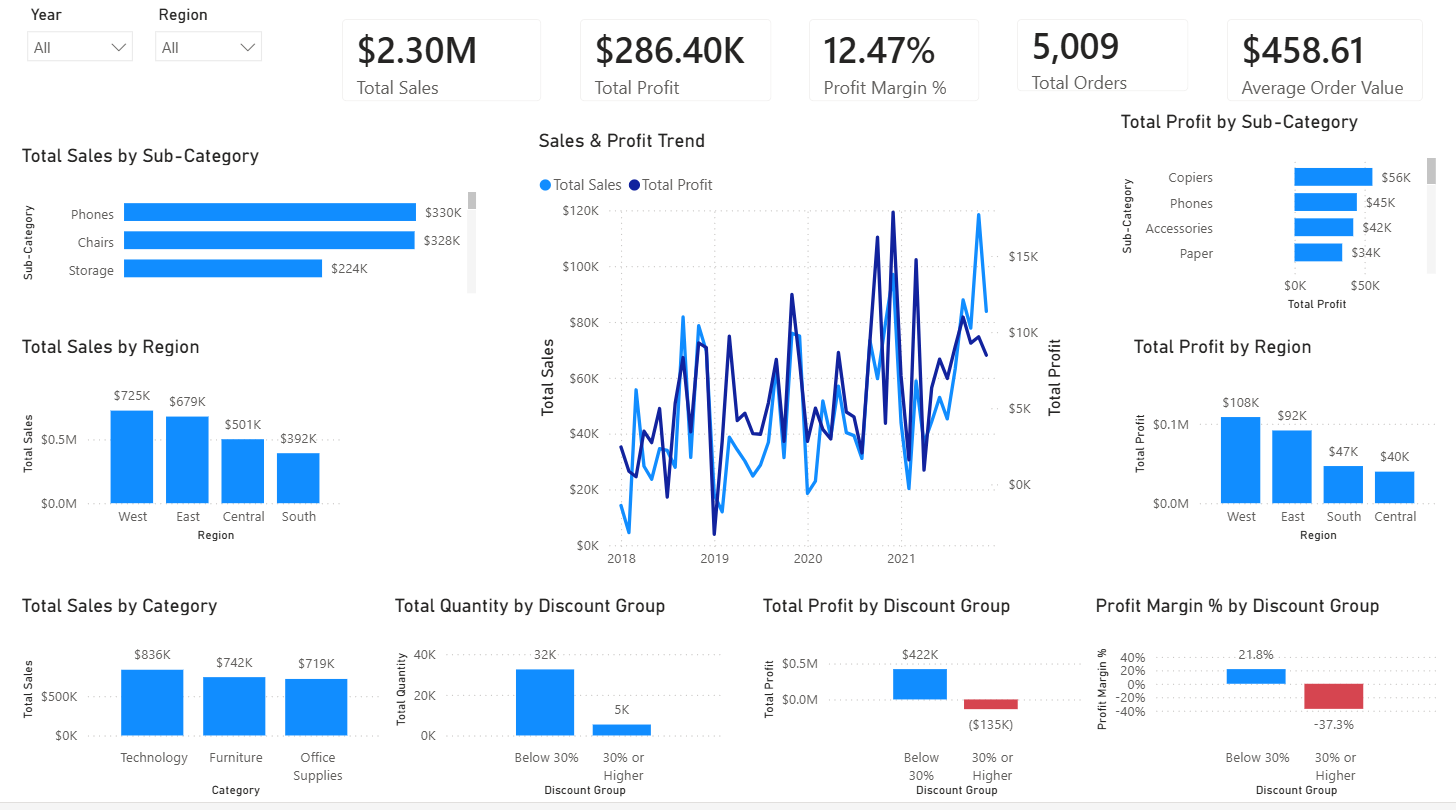

The page's visual inventory and layout, read from the dashboard file:
{"tool":"powerbi","page":{"name":"Executive Sales Overview","canvas":[1280,720],"ordinal":0},"visuals":[{"type":"cardVisual","fields":{"Data":["sample_superstore_clean.Total Sales"]},"box":[276,0,213,108],"z":0},{"type":"cardVisual","fields":{"Data":["sample_superstore_clean.Total Profit"]},"box":[489,0,206,108],"z":1000},{"type":"cardVisual","fields":{"Data":["sample_superstore_clean.Profit Margin %"]},"box":[695,0,187,108],"z":2000},{"type":"cardVisual","fields":{"Data":["sample_superstore_clean.Average Order Value"]},"box":[1070,0,210,108],"z":3000},{"type":"cardVisual","fields":{"Data":["sample_superstore_clean.Total Orders"]},"box":[882,0,188,99],"z":4000},{"type":"lineChart","title":"Sales & Profit Trend","fields":{"Category":["sample_superstore_clean.Date"],"Y":["sample_superstore_clean.Total Sales"],"Y2":["sample_superstore_clean.Total Profit"]},"box":[464,116,480,404],"z":5000},{"type":"clusteredBarChart","fields":{"Category":["sample_superstore_clean.Sub-Category"],"Y":["sample_superstore_clean.Total Sales"]},"box":[0,129,418,139],"z":6000},{"type":"clusteredBarChart","fields":{"Category":["sample_superstore_clean.Sub-Category"],"Y":["sample_superstore_clean.Total Profit"]},"box":[987,99,293,185],"z":7000},{"type":"clusteredColumnChart","fields":{"Category":["sample_superstore_clean.Region"],"Y":["sample_superstore_clean.Total Profit"]},"box":[998,301,282,190],"z":8000},{"type":"slicer","fields":{"Values":["sample_superstore_clean.Order Date.Variation.Date Hierarchy.Year"]},"box":[0,0,114.8,69.1],"z":9000},{"type":"slicer","fields":{"Values":["sample_superstore_clean.Region"]},"box":[115,0,115.7,60.3],"z":10000},{"type":"clusteredColumnChart","fields":{"Category":["sample_superstore_clean.Category"],"Y":["sample_superstore_clean.Total Sales"]},"box":[0,533,335,187],"z":11000},{"type":"clusteredColumnChart","fields":{"Category":["sample_superstore_clean.Region"],"Y":["sample_superstore_clean.Total Sales"]},"box":[0,301,299,190],"z":12000},{"type":"clusteredColumnChart","fields":{"Category":["sample_superstore_clean.Discount Group"],"Y":["sample_superstore_clean.Total Profit"]},"box":[665,533,299,187],"z":13000},{"type":"clusteredColumnChart","fields":{"Category":["sample_superstore_clean.Discount Group"],"Y":["sample_superstore_clean.Profit Margin %"]},"box":[964,533,316,187],"z":14000},{"type":"clusteredColumnChart","fields":{"Category":["sample_superstore_clean.Discount Group"],"Y":["sample_superstore_clean.Total Quantity"]},"box":[335,533,305,187],"z":15000}]}

Visuals, with their boxes in screenshot pixels (x1, y1, x2, y2), scaled from the page's 1280x720 canvas onto the 1456x810 screenshot:
cardVisual - sample_superstore_clean.Total Sales: [314,0,556,122]
cardVisual - sample_superstore_clean.Total Profit: [556,0,791,122]
cardVisual - sample_superstore_clean.Profit Margin %: [791,0,1003,122]
cardVisual - sample_superstore_clean.Average Order Value: [1217,0,1455,122]
cardVisual - sample_superstore_clean.Total Orders: [1003,0,1217,111]
"Sales & Profit Trend" lineChart: [528,130,1074,585]
clusteredBarChart - sample_superstore_clean.Sub-Category x sample_superstore_clean.Total Sales: [0,145,475,302]
clusteredBarChart - sample_superstore_clean.Sub-Category x sample_superstore_clean.Total Profit: [1123,111,1455,320]
clusteredColumnChart - sample_superstore_clean.Region x sample_superstore_clean.Total Profit: [1135,339,1455,552]
slicer - sample_superstore_clean.Order Date.Variation.Date Hierarchy.Year: [0,0,131,78]
slicer - sample_superstore_clean.Region: [131,0,262,68]
clusteredColumnChart - sample_superstore_clean.Category x sample_superstore_clean.Total Sales: [0,600,381,809]
clusteredColumnChart - sample_superstore_clean.Region x sample_superstore_clean.Total Sales: [0,339,340,552]
clusteredColumnChart - sample_superstore_clean.Discount Group x sample_superstore_clean.Total Profit: [756,600,1097,809]
clusteredColumnChart - sample_superstore_clean.Discount Group x sample_superstore_clean.Profit Margin %: [1097,600,1455,809]
clusteredColumnChart - sample_superstore_clean.Discount Group x sample_superstore_clean.Total Quantity: [381,600,728,809]
